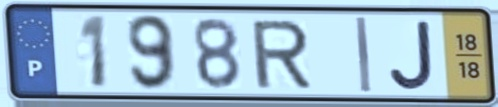1: (73, 13, 109, 92)
8: (191, 15, 244, 92)
9: (124, 12, 179, 93)
I: (352, 14, 374, 95)
J: (387, 18, 437, 92)
R: (248, 17, 314, 91)
